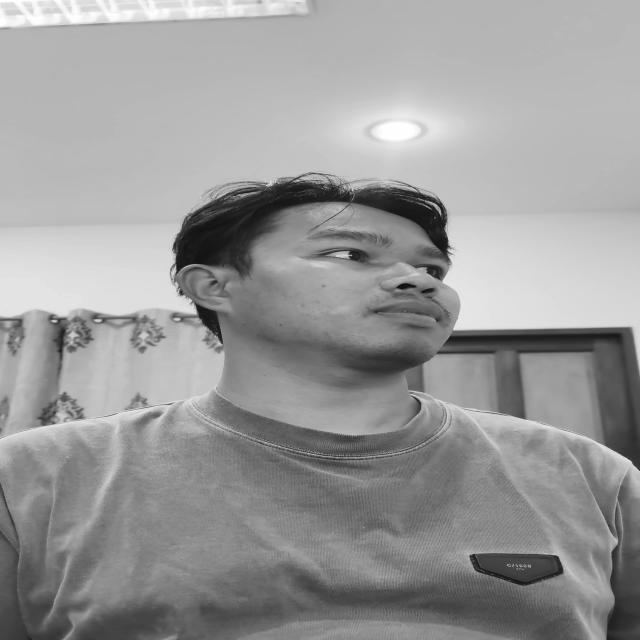ear: (175, 264, 235, 313)
